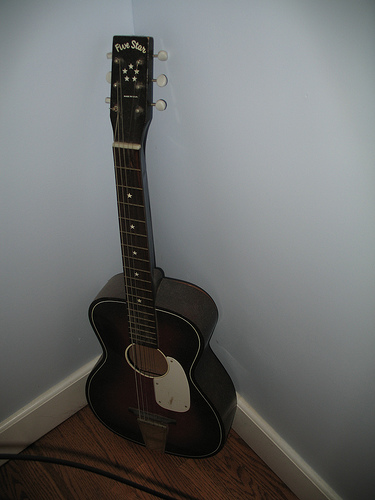guitar: (81, 33, 237, 459)
